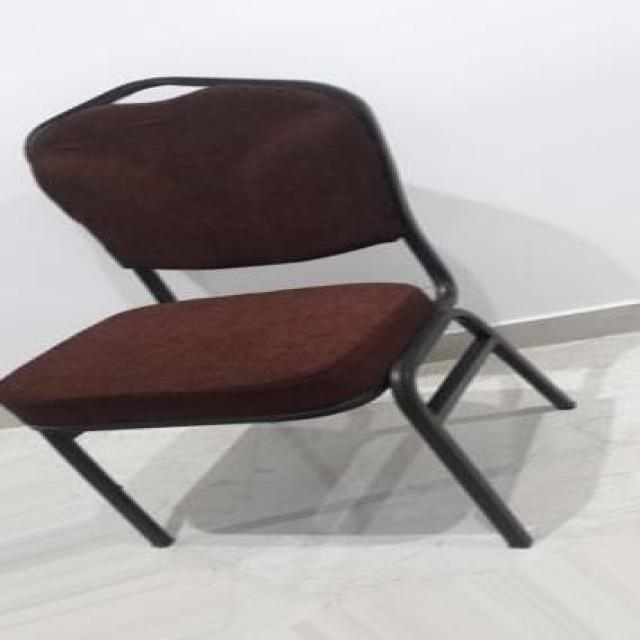chair: (2, 71, 582, 555)
